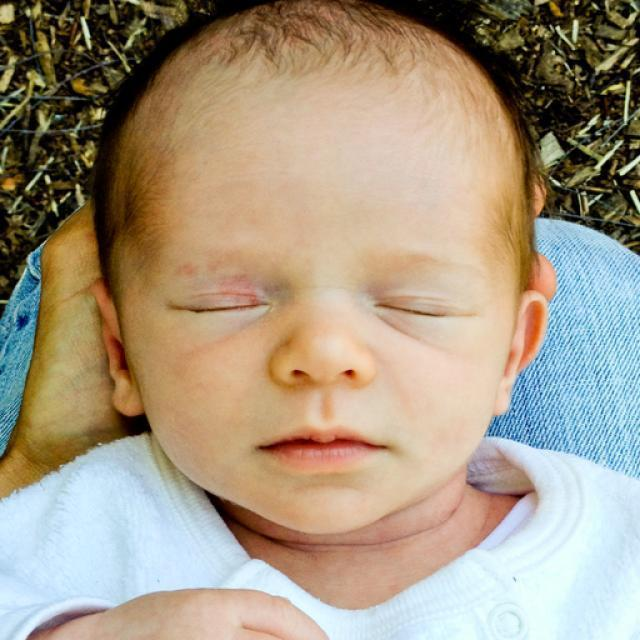0_rostro_limpio: (97, 0, 544, 535)
